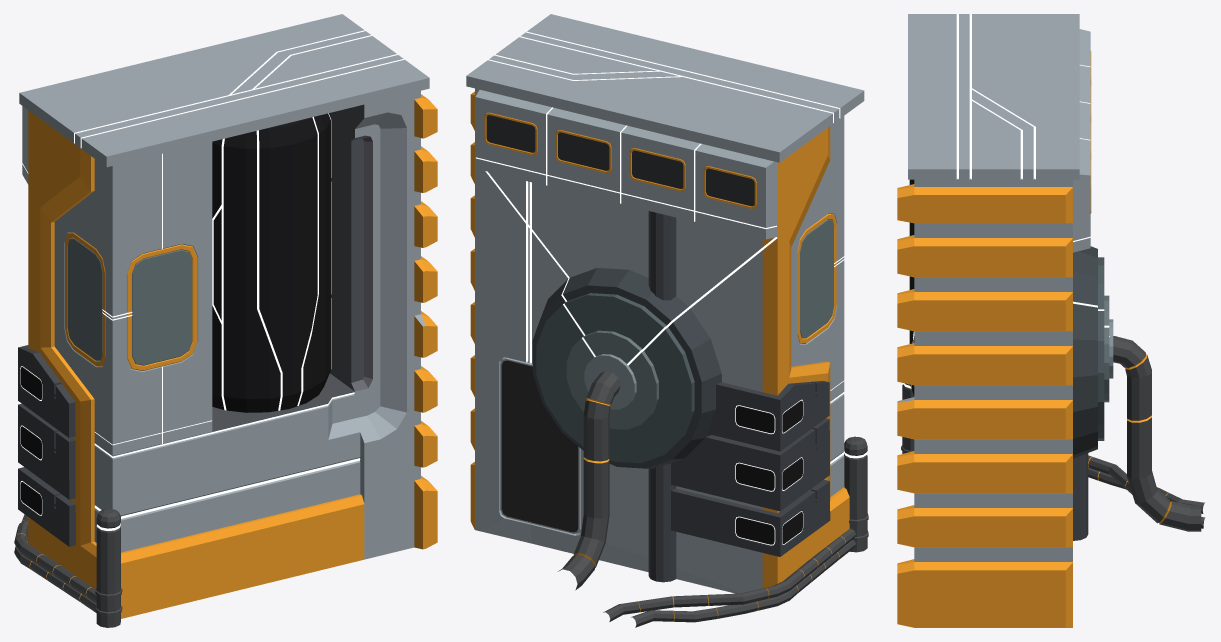
File: SM_Electric_Generator_02_For_Type_01.glb
The picture shows the model from 3 angles, left to right: view 1: azimuth 30°, elevation 25°; view 2: azimuth 150°, elevation 25°; view 3: azimuth 270°, elevation 25°; orthographic projection. The views are drawn at different scales.
Parts seen in each view (by area): view 1: SM_Electric_Generator_02_For_Type_01; view 2: SM_Electric_Generator_02_For_Type_01; view 3: SM_Electric_Generator_02_For_Type_01.
Part boxes in pixels (x1,y1,x2,y2): SM_Electric_Generator_02_For_Type_01: (14,14,437,627); SM_Electric_Generator_02_For_Type_01: (466,14,868,627); SM_Electric_Generator_02_For_Type_01: (897,14,1205,627).
Bounding box in the file's own units: 3.13 × 4.24 × 2.57.
3 materials, 1 textured.
